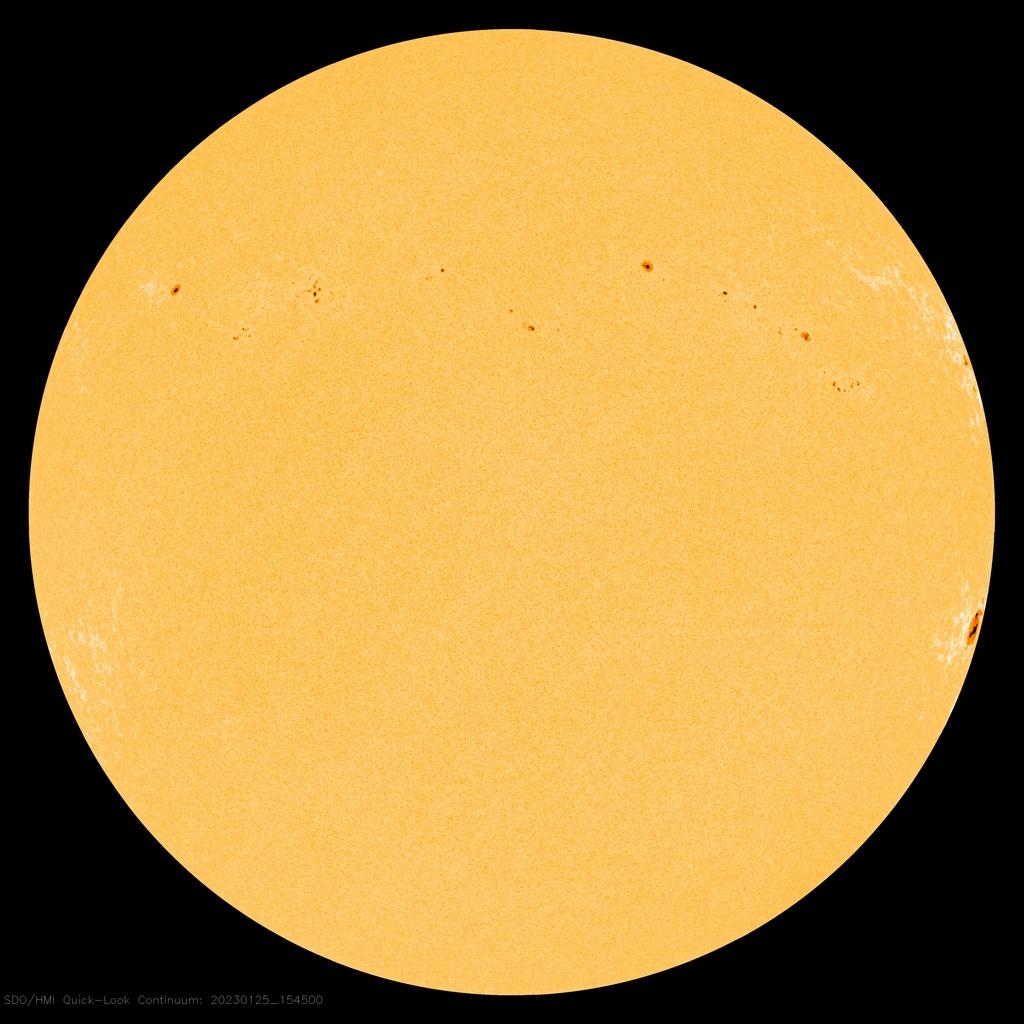flare: (720, 277, 870, 408), (290, 268, 334, 315), (508, 302, 545, 347), (632, 250, 671, 292), (961, 600, 988, 655), (422, 260, 450, 290), (162, 274, 190, 303)
